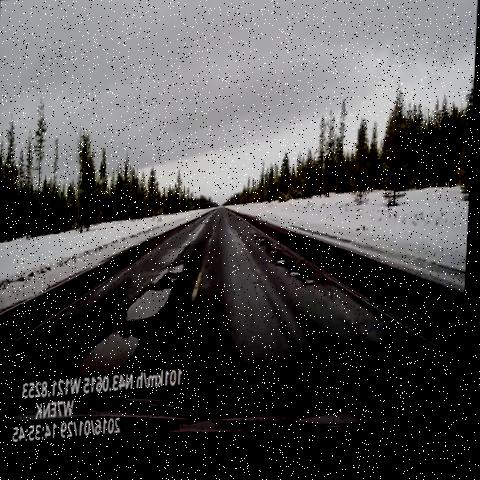pothole: (72, 323, 153, 394), (120, 277, 184, 334), (282, 261, 331, 303), (253, 233, 294, 279), (155, 252, 195, 291)
